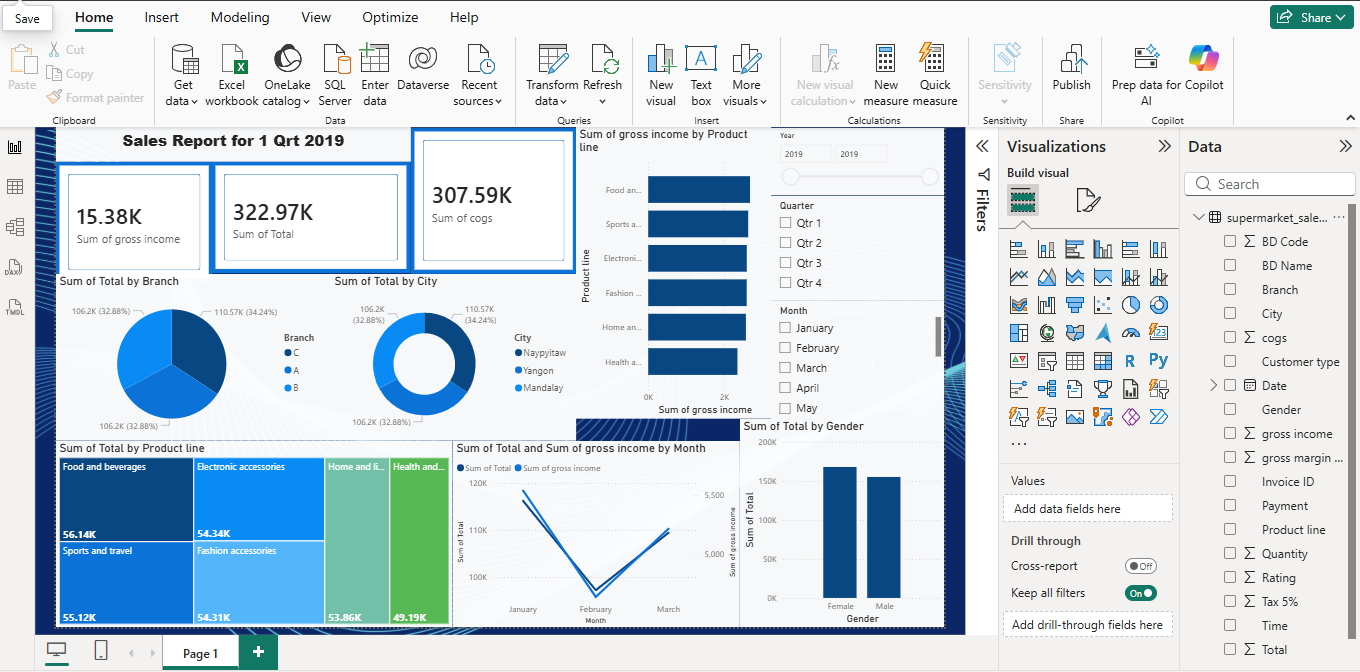

The dashboard page shown, as its layout file describes it:
{"tool":"powerbi","page":{"name":"Page 1","canvas":[1280,720],"ordinal":0},"visuals":[{"type":"cardVisual","fields":{"Data":["Sum(supermarket_sales%20-%20Sheet1.gross income)"]},"box":[0,50.4,225.1,173],"z":0},{"type":"cardVisual","fields":{"Data":["Sum(supermarket_sales%20-%20Sheet1.Total)"]},"box":[225.1,50.4,285.6,159.6],"z":1000},{"type":"cardVisual","fields":{"Data":["Sum(supermarket_sales%20-%20Sheet1.cogs)"]},"box":[510.7,1.7,238.5,210],"z":2000},{"type":"pieChart","fields":{"Category":["supermarket_sales%20-%20Sheet1.Branch"],"Y":["Sum(supermarket_sales%20-%20Sheet1.Total)"]},"box":[0,211.7,396.4,240.2],"z":3000},{"type":"donutChart","fields":{"Category":["supermarket_sales%20-%20Sheet1.City"],"Y":["Sum(supermarket_sales%20-%20Sheet1.Total)"]},"box":[396.4,211.7,352.8,240.2],"z":4000},{"type":"treemap","fields":{"Group":["supermarket_sales%20-%20Sheet1.Product line"],"Values":["Sum(supermarket_sales%20-%20Sheet1.Total)"]},"box":[0,451.9,571.1,268.8],"z":5000},{"type":"clusteredColumnChart","fields":{"Category":["supermarket_sales%20-%20Sheet1.Gender"],"Y":["Sum(supermarket_sales%20-%20Sheet1.Total)"]},"box":[984.4,419.9,295.6,300.7],"z":6000},{"type":"slicer","fields":{"Values":["supermarket_sales%20-%20Sheet1.Date.Variation.Date Hierarchy.Year"]},"box":[1029.7,1.7,250.3,97.4],"z":7000},{"type":"slicer","fields":{"Values":["supermarket_sales%20-%20Sheet1.Date.Variation.Date Hierarchy.Quarter"]},"box":[1029.7,99.1,250.3,151.2],"z":8000},{"type":"slicer","fields":{"Values":["supermarket_sales%20-%20Sheet1.Date.Variation.Date Hierarchy.Month"]},"box":[1029.7,250.3,250.3,169.7],"z":9000},{"type":"lineChart","fields":{"Y":["Sum(supermarket_sales%20-%20Sheet1.Total)"],"Category":["supermarket_sales%20-%20Sheet1.Date.Variation.Date Hierarchy.Month"],"Y2":["Sum(supermarket_sales%20-%20Sheet1.gross income)"]},"box":[571.1,451.9,413.2,268.8],"z":10000},{"type":"clusteredBarChart","fields":{"Category":["supermarket_sales%20-%20Sheet1.Product line"],"Y":["Sum(supermarket_sales%20-%20Sheet1.gross income)"]},"box":[749.2,0,280.5,419.9],"z":11000},{"type":"textbox","box":[0,0,510.7,50.4],"z":12000}]}

Visuals, with their boxes on the page's 1280x720 design canvas (x1, y1, x2, y2). These are canvas units, not pixel positions in the 1360x672 screenshot, which may show the page scaled, cropped or inside an application window:
cardVisual - Sum(supermarket_sales%20-%20Sheet1.gross income): select_region(0, 50, 225, 223)
cardVisual - Sum(supermarket_sales%20-%20Sheet1.Total): select_region(225, 50, 511, 210)
cardVisual - Sum(supermarket_sales%20-%20Sheet1.cogs): select_region(511, 2, 749, 212)
pieChart - supermarket_sales%20-%20Sheet1.Branch x Sum(supermarket_sales%20-%20Sheet1.Total): select_region(0, 212, 396, 452)
donutChart - supermarket_sales%20-%20Sheet1.City x Sum(supermarket_sales%20-%20Sheet1.Total): select_region(396, 212, 749, 452)
treemap - supermarket_sales%20-%20Sheet1.Product line x Sum(supermarket_sales%20-%20Sheet1.Total): select_region(0, 452, 571, 721)
clusteredColumnChart - supermarket_sales%20-%20Sheet1.Gender x Sum(supermarket_sales%20-%20Sheet1.Total): select_region(984, 420, 1280, 721)
slicer - supermarket_sales%20-%20Sheet1.Date.Variation.Date Hierarchy.Year: select_region(1030, 2, 1280, 99)
slicer - supermarket_sales%20-%20Sheet1.Date.Variation.Date Hierarchy.Quarter: select_region(1030, 99, 1280, 250)
slicer - supermarket_sales%20-%20Sheet1.Date.Variation.Date Hierarchy.Month: select_region(1030, 250, 1280, 420)
lineChart - Sum(supermarket_sales%20-%20Sheet1.Total) x supermarket_sales%20-%20Sheet1.Date.Variation.Date Hierarchy.Month: select_region(571, 452, 984, 721)
clusteredBarChart - supermarket_sales%20-%20Sheet1.Product line x Sum(supermarket_sales%20-%20Sheet1.gross income): select_region(749, 0, 1030, 420)
textbox: select_region(0, 0, 511, 50)
